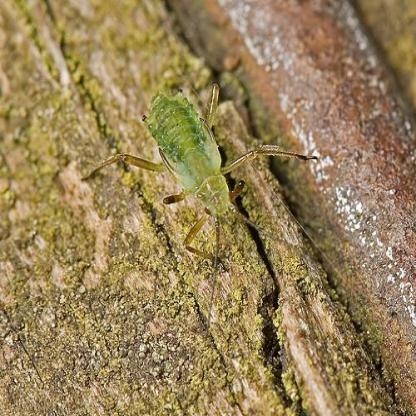aphid: (108, 71, 311, 286)
